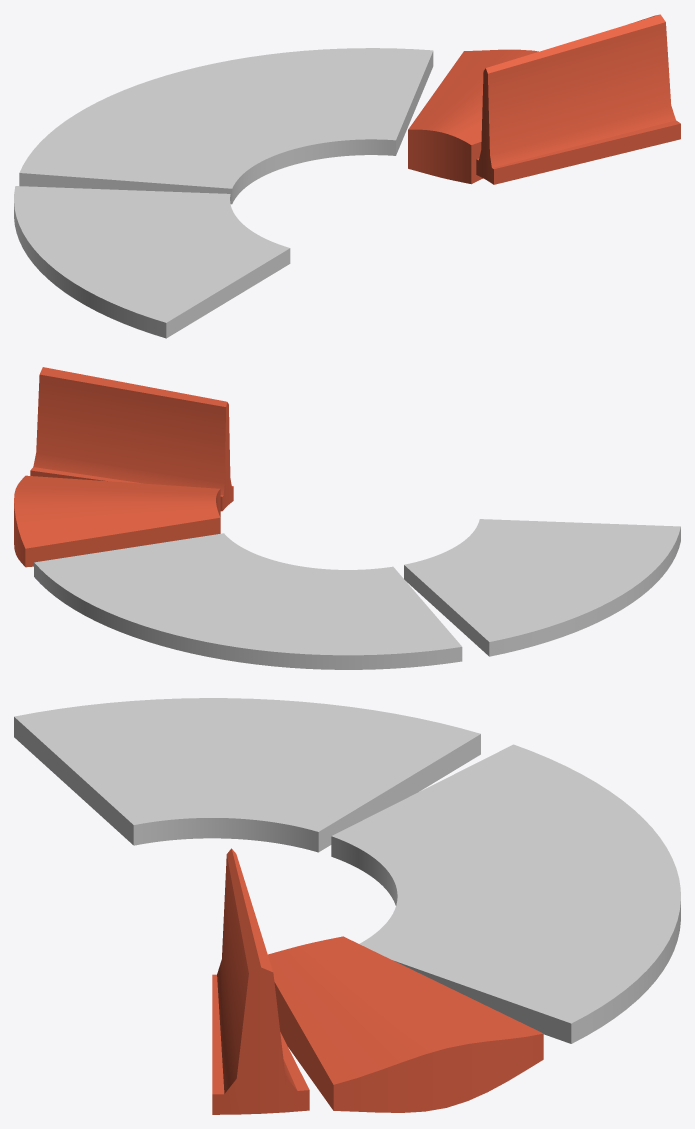
Rendered from Truba_2Smooth.fbx.
The picture shows the model from 3 angles, top to bottom: view 1: azimuth 30°, elevation 25°; view 2: azimuth 150°, elevation 25°; view 3: azimuth 270°, elevation 25°; orthographic projection. The views are drawn at different scales.
Parts seen in each view (by area): view 1: Цилиндр, Цилиндр.005, Цилиндр.007, Цилиндр.006; view 2: Цилиндр, Цилиндр.005, Цилиндр.007, Цилиндр.006; view 3: Цилиндр, Цилиндр.005, Цилиндр.006, Цилиндр.007.
Boxes of the visible parts, x1,y1,x2,y2 form: Цилиндр: (19, 48, 433, 204); Цилиндр.005: (14, 186, 290, 338); Цилиндр.007: (476, 14, 680, 184); Цилиндр.006: (408, 49, 538, 184); Цилиндр: (34, 533, 462, 669); Цилиндр.005: (404, 519, 680, 656); Цилиндр.007: (30, 367, 233, 511); Цилиндр.006: (14, 475, 220, 567); Цилиндр: (331, 744, 680, 1043); Цилиндр.005: (14, 698, 480, 852); Цилиндр.006: (268, 936, 543, 1112); Цилиндр.007: (212, 848, 309, 1114).
Bounding box in the file's own units: 4 × 0.781 × 2.84.
